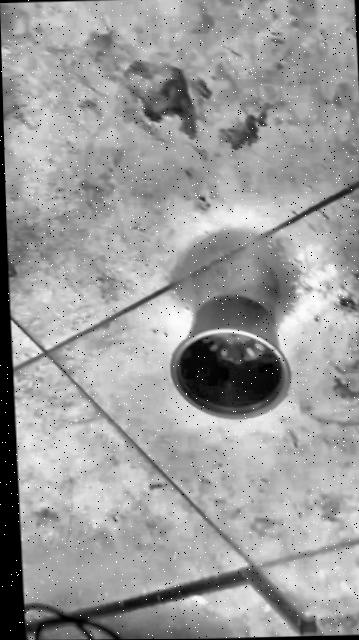pot: (166, 296, 290, 420)
